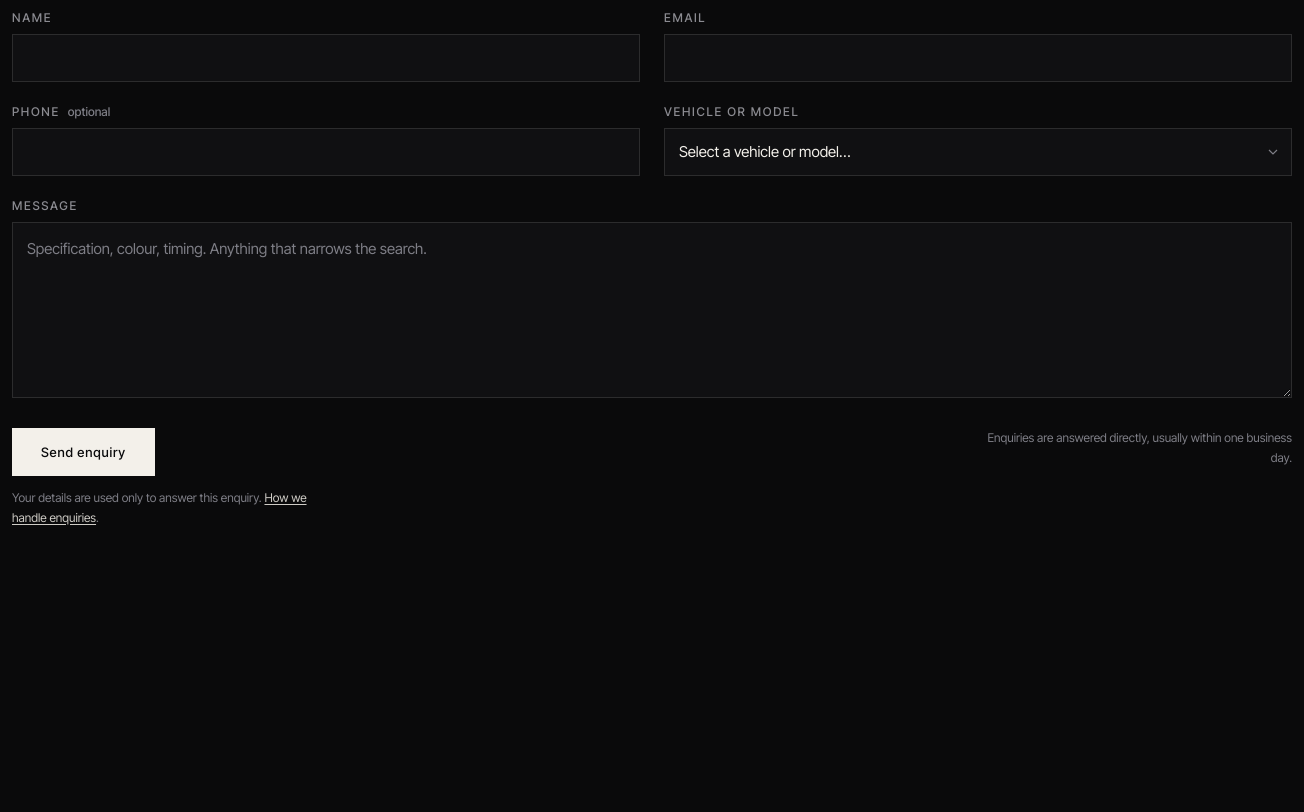
Scenario: InquiryForm › never reports success when delivery is unconfigured
This screenshot has width=1304, height=812.
Type "Alex Marlowe" into the field labelled "Name" at (326, 58), box [12,34,640,82]
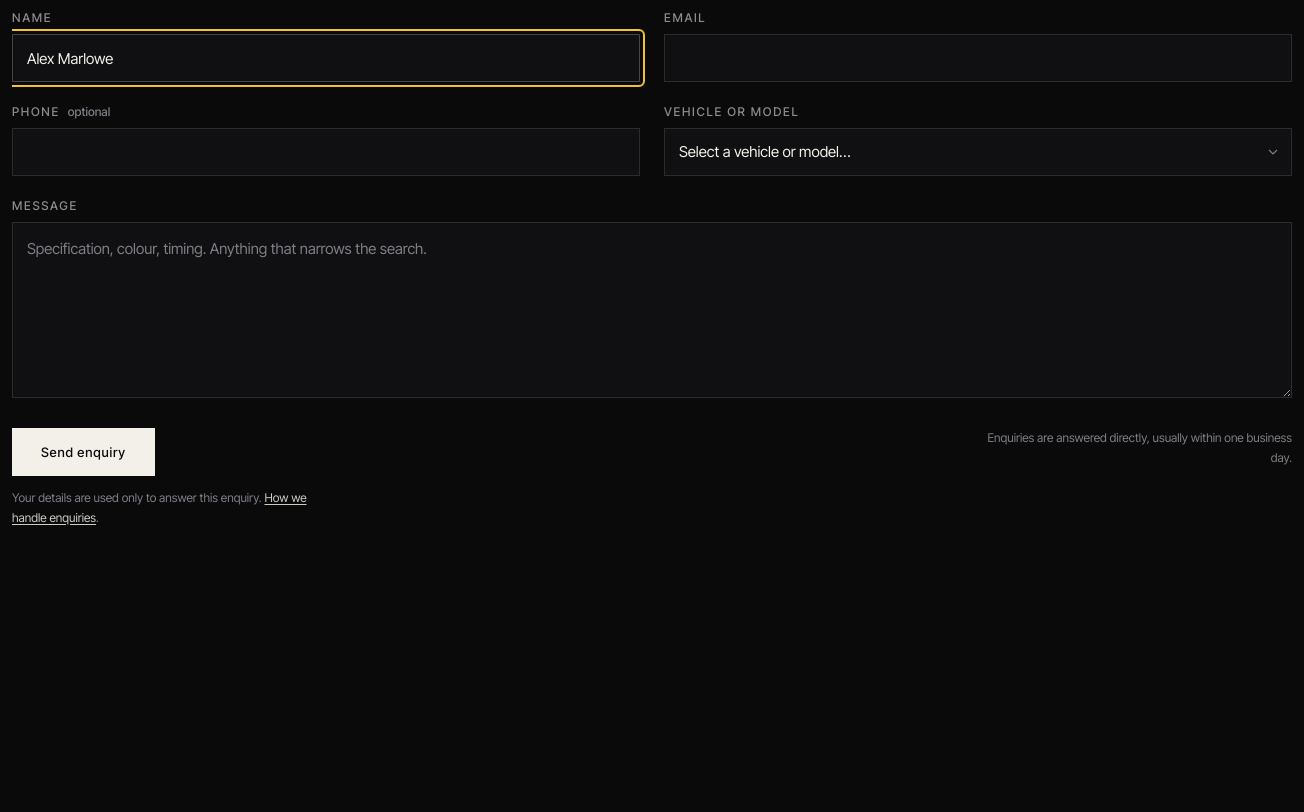
Type "alex@example.org" into the field labelled "Email" at (978, 58), box [664,34,1292,82]
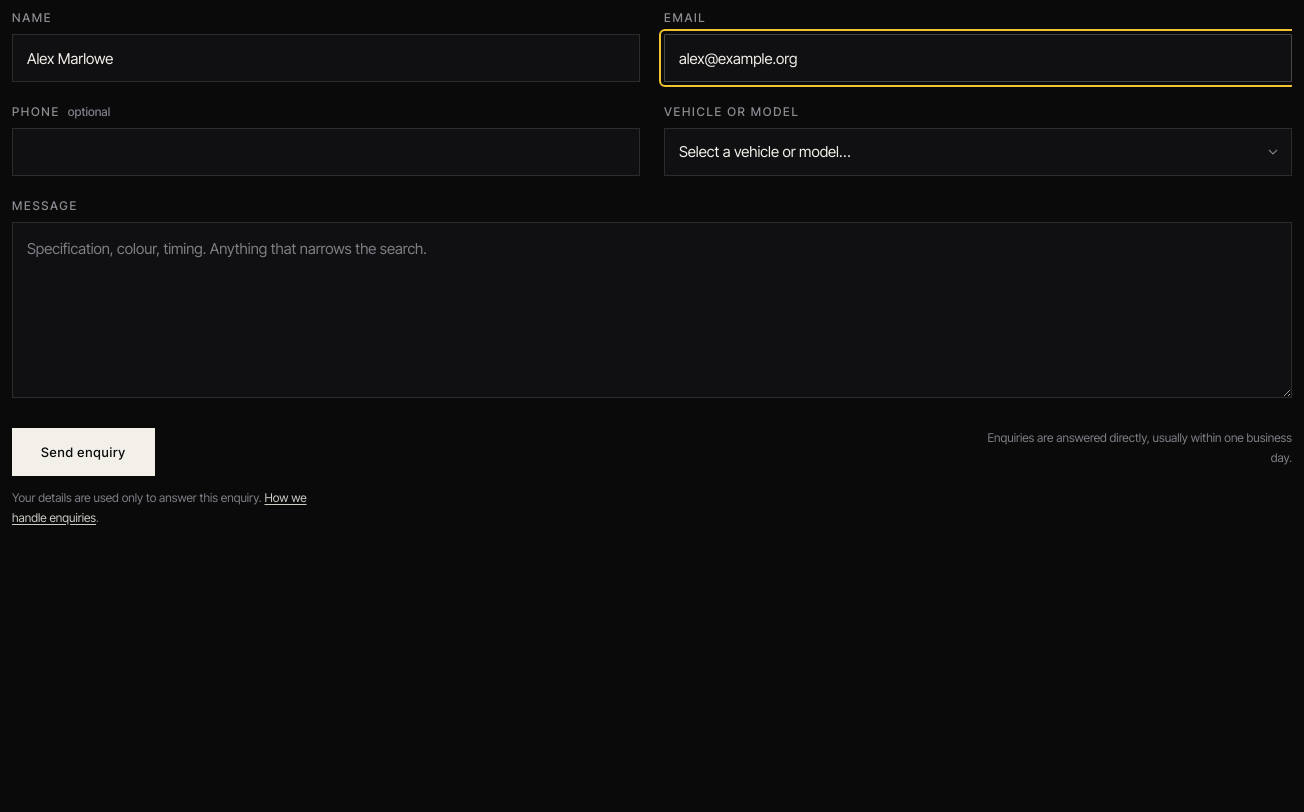
Select "Porsche 911 GT3 Touring" in the dropdown labelled "Vehicle or model" at (978, 152), box [664,128,1292,176]
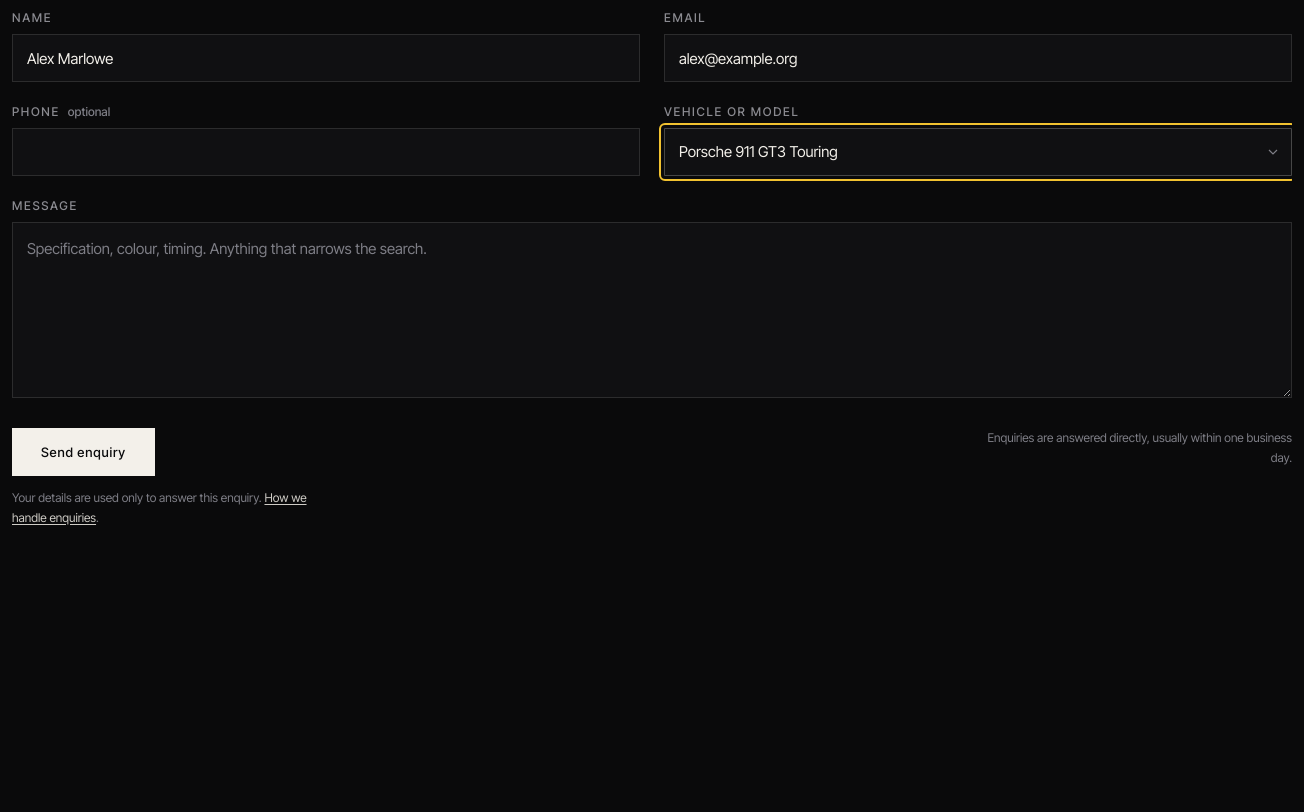
Type "Looking for a manual car in Shark Blue, flexible on timing." into the text box labelled "Message" at (652, 310), box [12,222,1292,398]
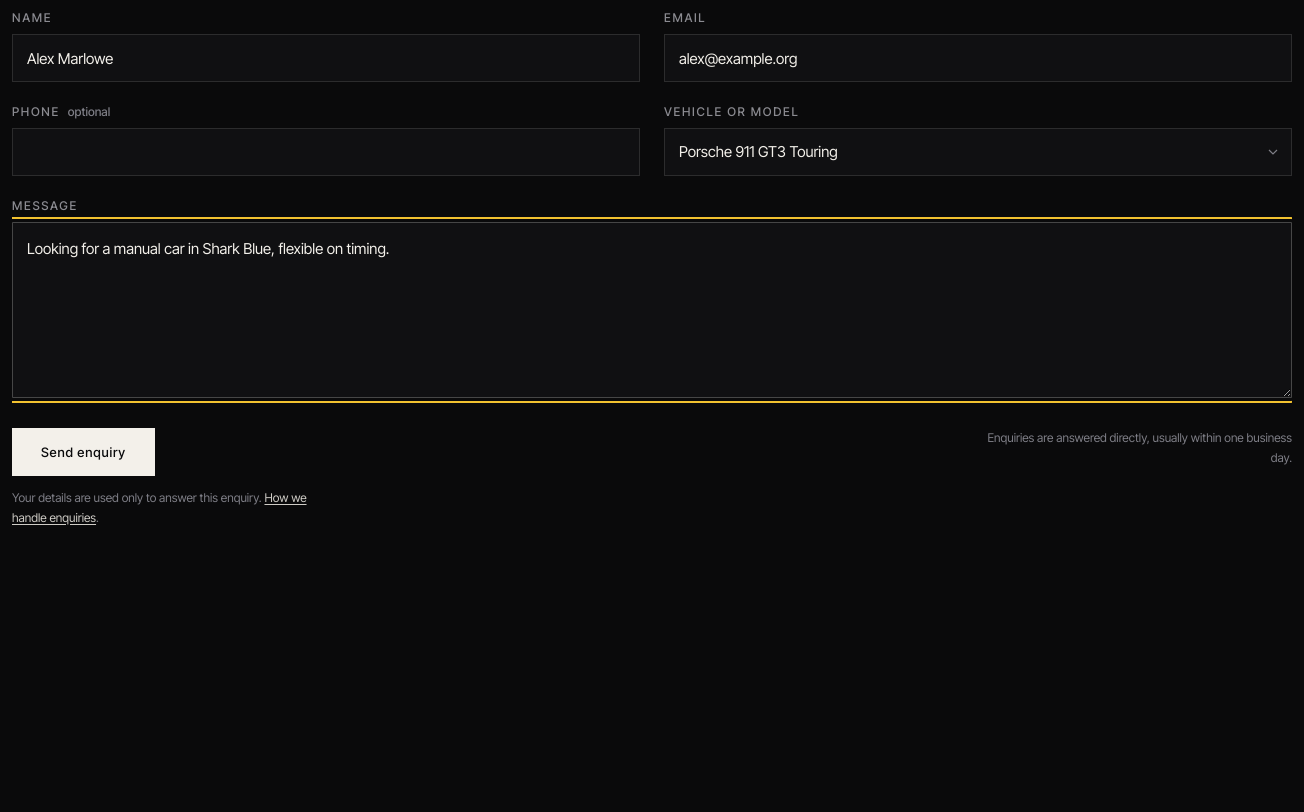
Click the button "Send enquiry" at (83, 452), box [12,428,155,476]
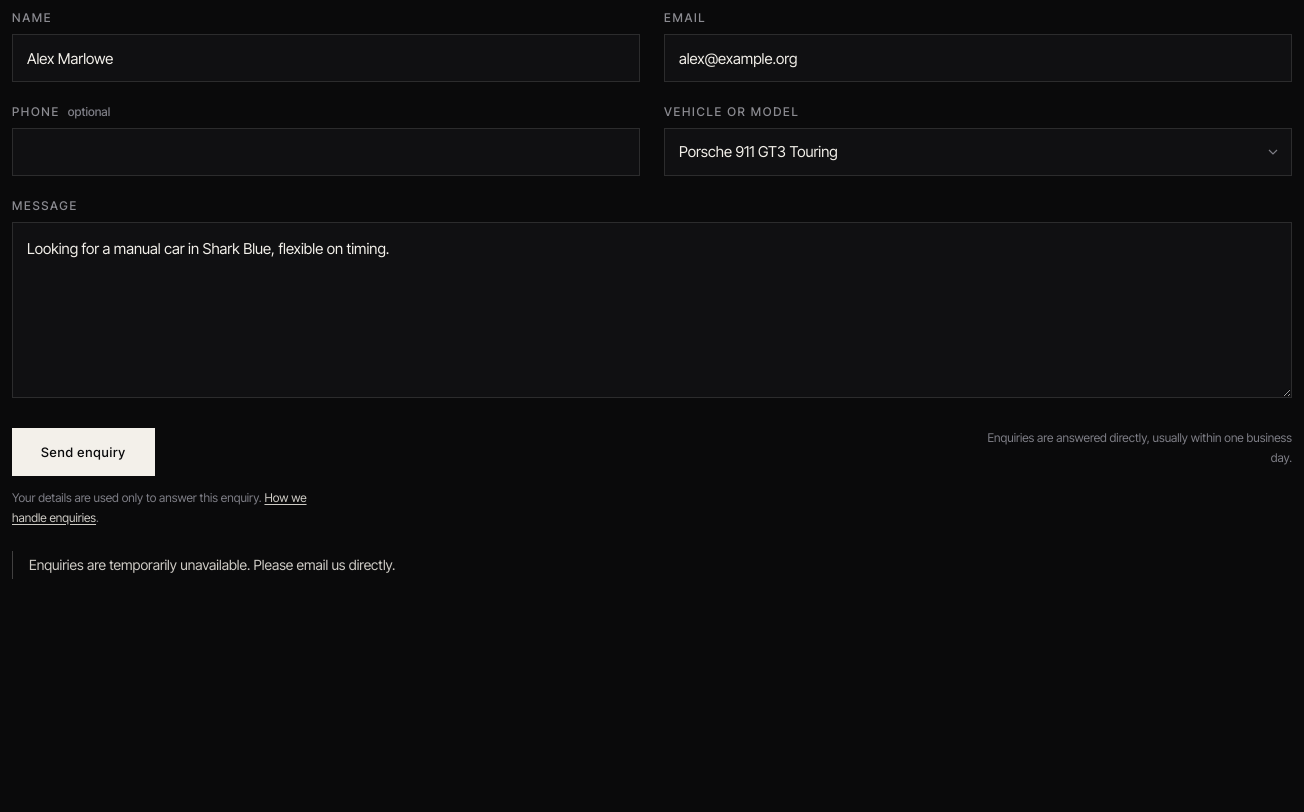
Expected: the text "Enquiries are temporarily unavailable. Please email us directly." is shown, [12,551,1292,579]
